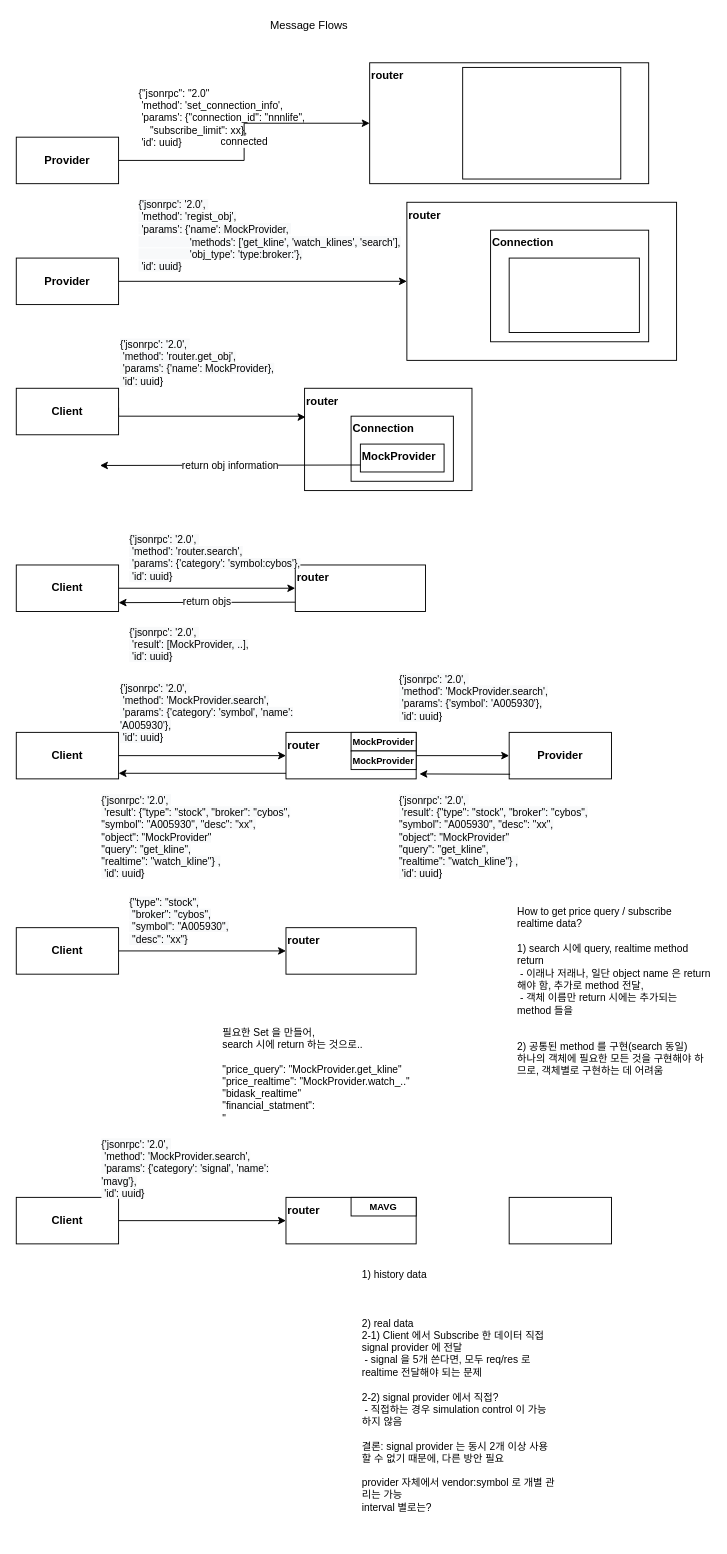
Some shapes in this 727 by 1554 pixel diagram are drawn without their labels. Each missing label, with the centre of its shape:
"Connection id subscribe_limit" belongs at point (541, 122).
"MockProvider obj_type methods: [get_kline..]" belongs at point (573, 294).
"signal provider" belongs at point (559, 1220).
